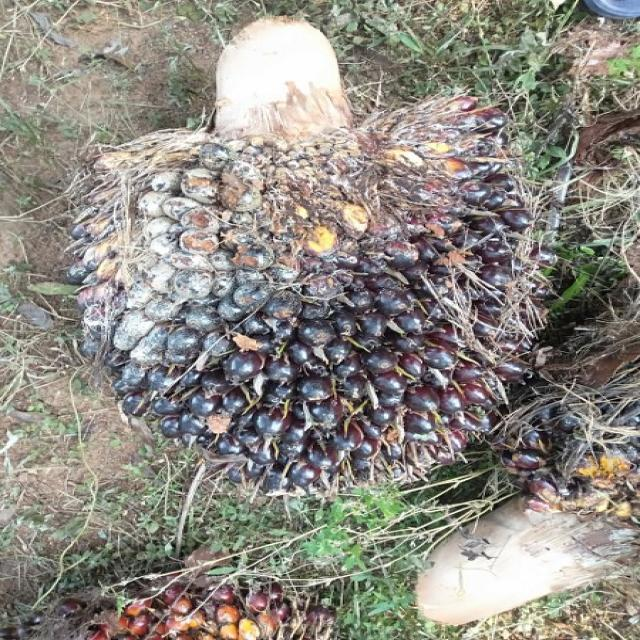fraksi 00: (25, 54, 572, 542)
